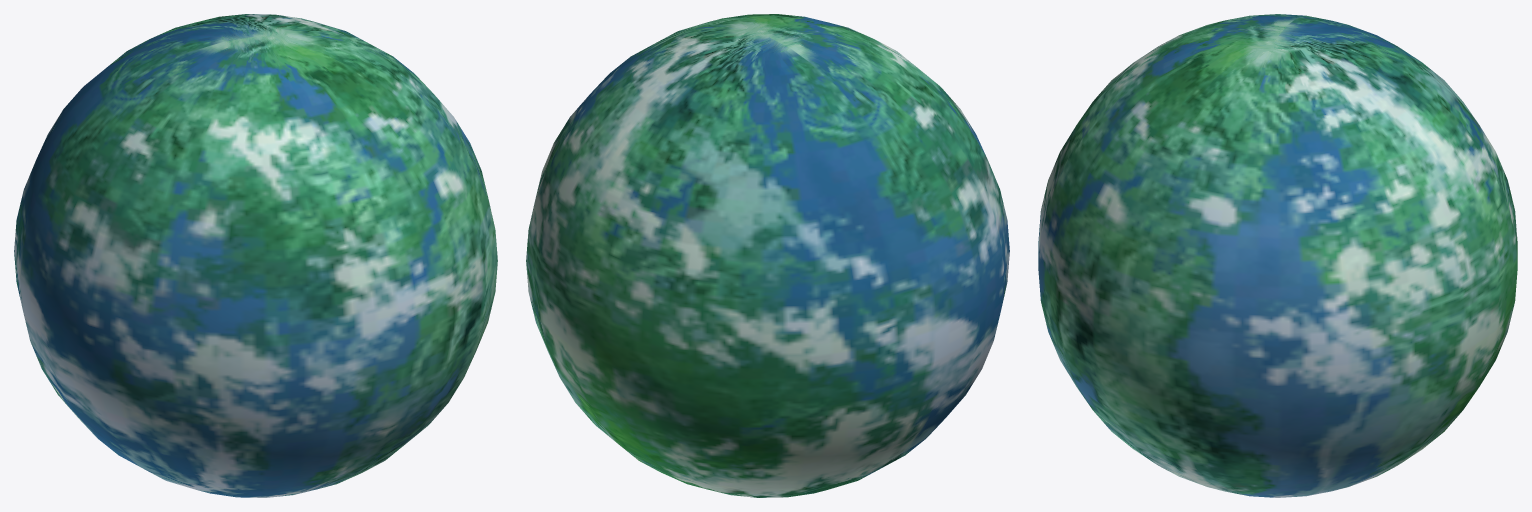
Rendered from ui_planet_sel_yavi.fbx.
3 views of the same model, side by side, from view 1: azimuth 30°, elevation 25°; view 2: azimuth 150°, elevation 25°; view 3: azimuth 270°, elevation 25° (orthographic).
Visible parts, largest first — view 1: mesh_node; view 2: mesh_node; view 3: mesh_node.
Part boxes in pixels (x1,y1,x2,y2): mesh_node: (14, 14, 497, 497); mesh_node: (526, 14, 1009, 497); mesh_node: (1038, 14, 1517, 497).
Bounding box in the file's own units: 2 × 2 × 1.98.
1 material, 1 textured.
